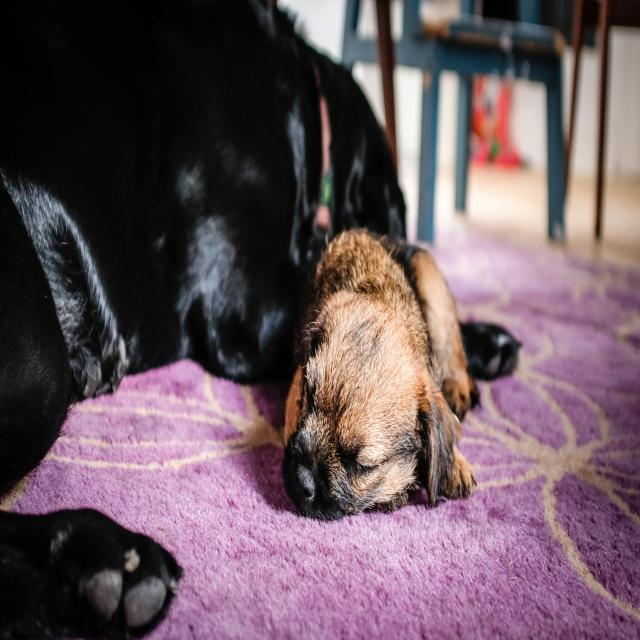laying down: (278, 222, 480, 522)
